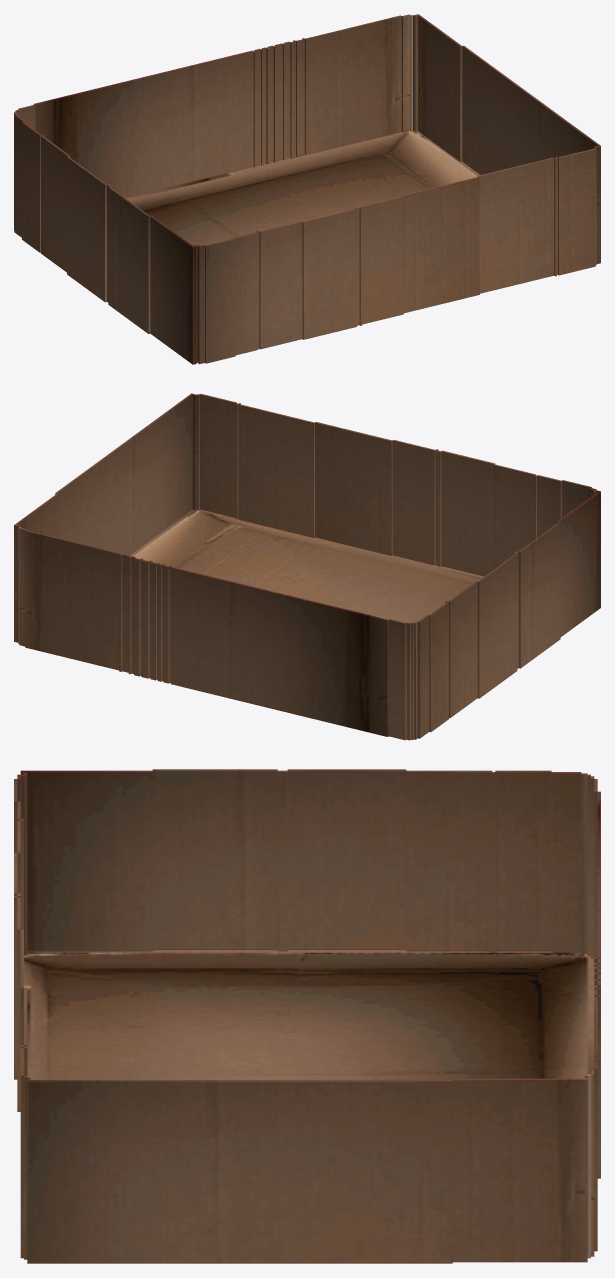
Rendered from cardboard.fbx.
3 renders of one model, top to bottom at view 1: azimuth 30°, elevation 25°; view 2: azimuth 150°, elevation 25°; view 3: azimuth 270°, elevation 25°, orthographic. The views are drawn at different scales.
Visible parts, largest first — view 1: cardboard.001; view 2: cardboard.001; view 3: cardboard.001.
Part boxes in pixels (x1,y1,x2,y2): cardboard.001: (14, 14, 600, 364); cardboard.001: (14, 393, 600, 740); cardboard.001: (14, 769, 600, 1263).
Size of the model in its own units: 22.4 by 6.1 by 17.8.
1 material, 1 textured.
